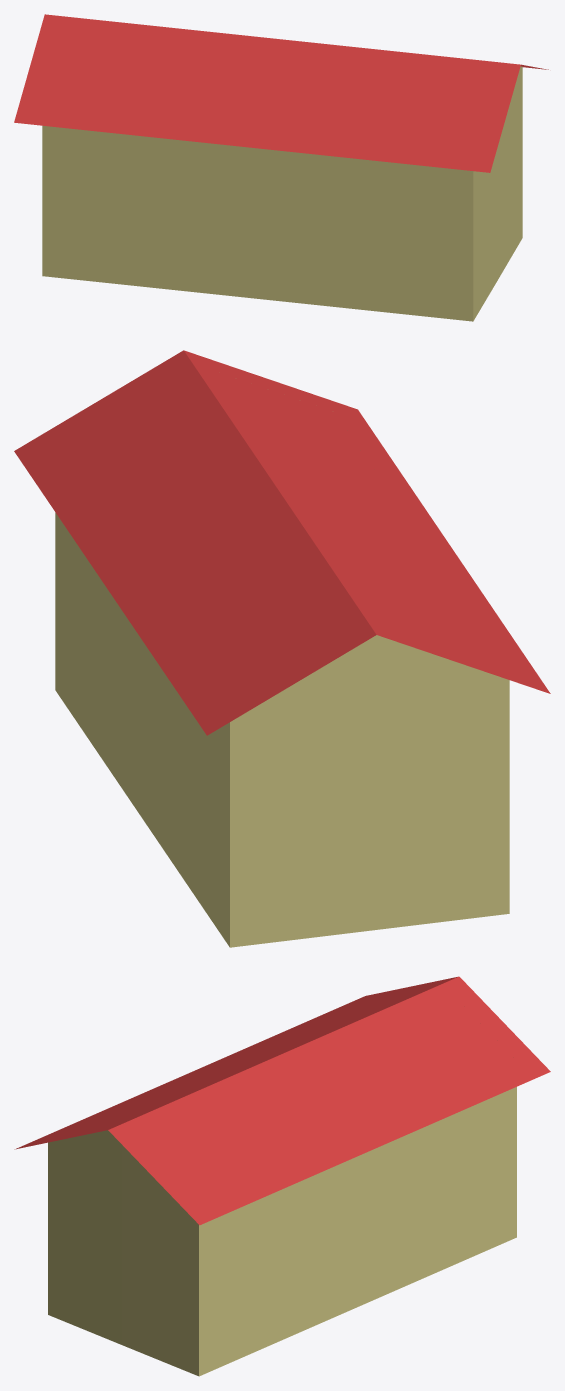
The picture shows the model from 3 angles, top to bottom: view 1: azimuth 30°, elevation 25°; view 2: azimuth 150°, elevation 25°; view 3: azimuth 270°, elevation 25°; orthographic projection. The views are drawn at different scales.
Size of the model in its own units: 16.9 by 16.72 by 7.67.
